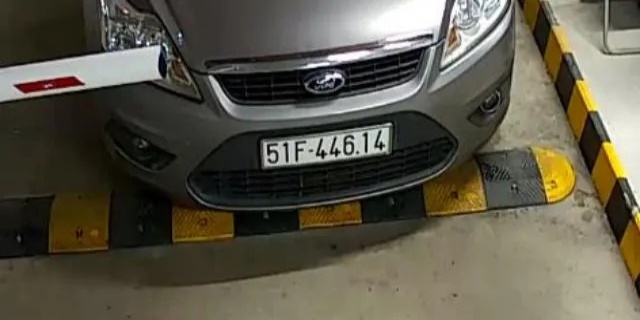bien_so: (263, 128, 389, 166)
